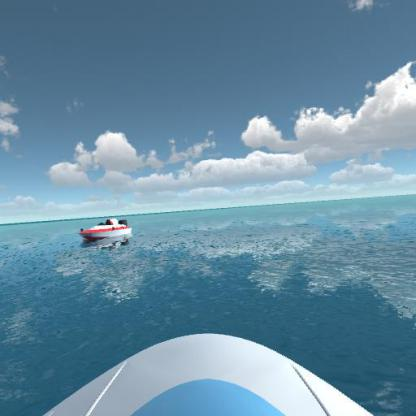usv3: (72, 212, 138, 247)
